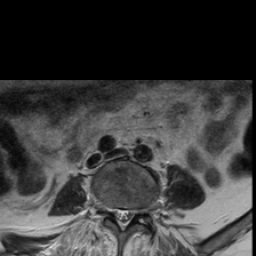CCS_normal: (119, 202, 126, 235)
LFS_severe_stenosis: (135, 204, 142, 224)
LLS_normal: (127, 203, 134, 227)
RFS_stenosis: (108, 202, 115, 219)
RLS_normal: (115, 202, 120, 227)
